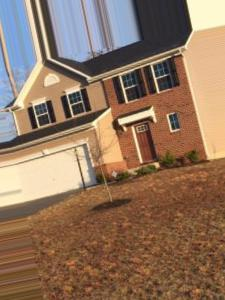patch: (67, 210, 174, 264), (98, 274, 170, 300), (187, 217, 225, 266), (156, 186, 207, 201)
